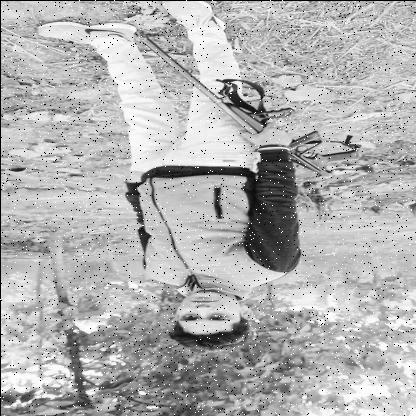rifle: (139, 34, 362, 180)
